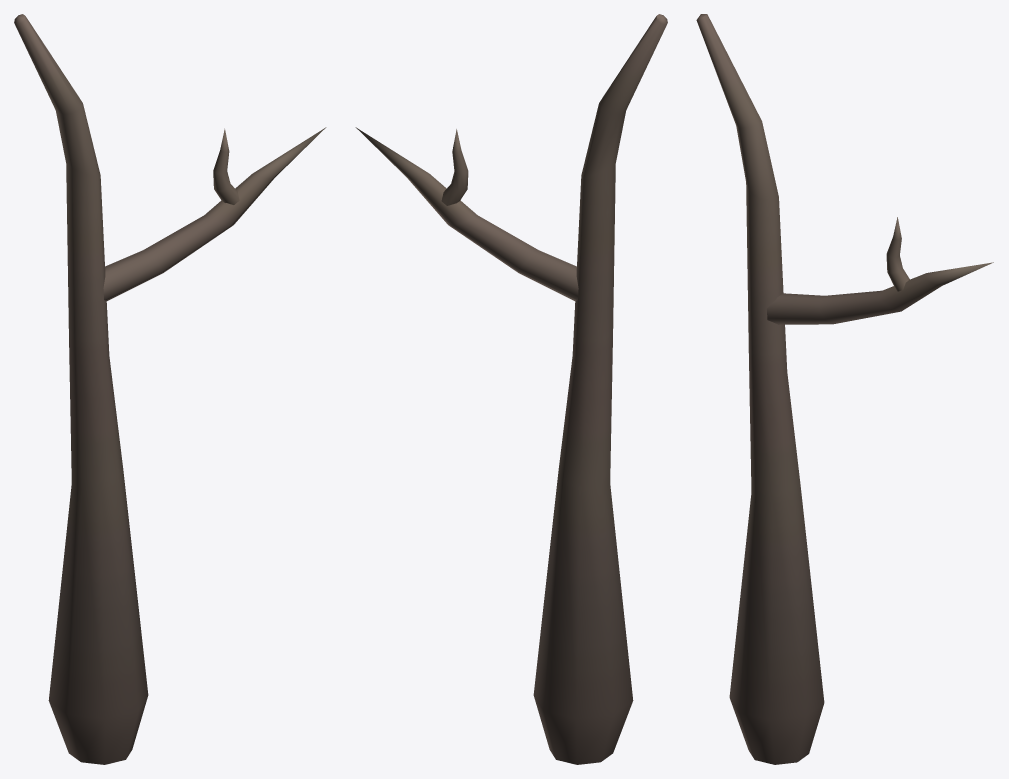
Rendered from tree_dead_medium.glb.
The picture shows the model from 3 angles, left to right: view 1: azimuth 30°, elevation 25°; view 2: azimuth 150°, elevation 25°; view 3: azimuth 330°, elevation 25°; orthographic projection. The views are drawn at different scales.
Parts seen in each view (by area): view 1: tree_dead_medium; view 2: tree_dead_medium; view 3: tree_dead_medium.
Boxes of the visible parts, bbox=[...] form: tree_dead_medium: bbox=[14, 14, 326, 764]; tree_dead_medium: bbox=[355, 14, 667, 764]; tree_dead_medium: bbox=[696, 14, 993, 764].
Bounding box in the file's own units: 1.81 × 4.19 × 0.4669.
1 material, 1 textured.
